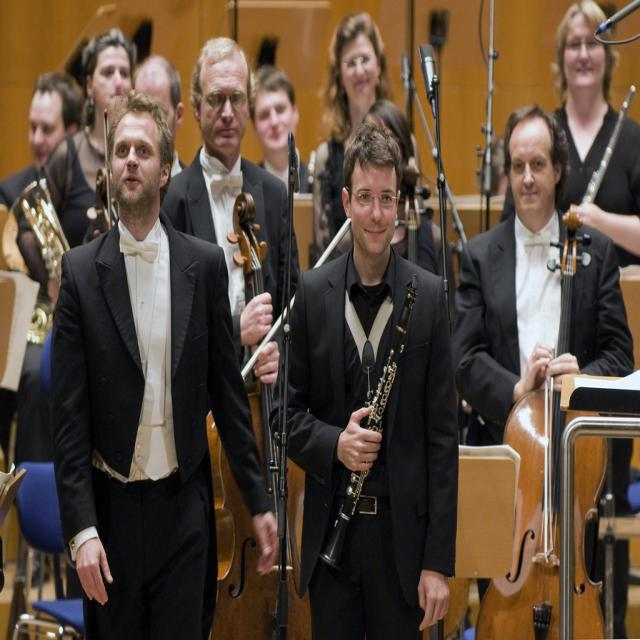cello: (476, 204, 612, 640), (199, 187, 324, 640)
clarinet: (317, 260, 421, 572)
